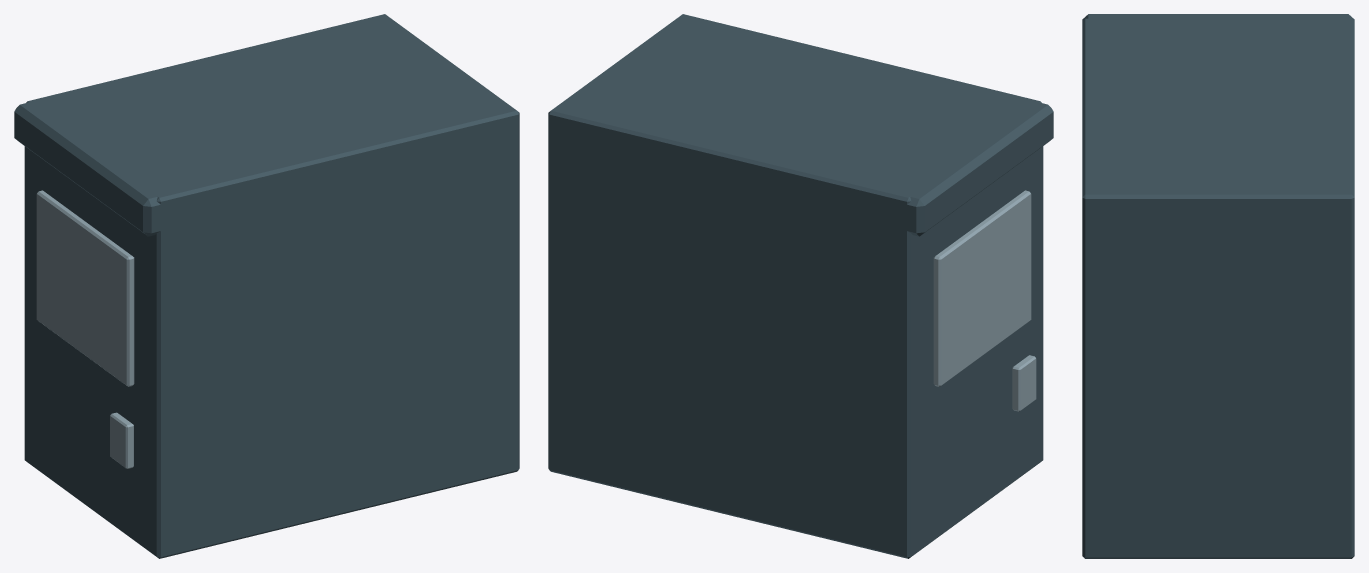
File: pupitre_couloir.glb
3 views of the same model, side by side, from view 1: azimuth 30°, elevation 25°; view 2: azimuth 150°, elevation 25°; view 3: azimuth 270°, elevation 25° (orthographic).
Parts seen in each view (by area): view 1: pupitre_couloir; view 2: pupitre_couloir; view 3: pupitre_couloir.
Boxes of the visible parts, left/top/right/bottom form: pupitre_couloir: left=14, top=14, right=519, bottom=558; pupitre_couloir: left=548, top=14, right=1053, bottom=558; pupitre_couloir: left=1082, top=14, right=1354, bottom=558.
Size of the model in its own units: 1.25 by 1.15 by 0.78.
Materials: 1 (1 with a texture image).
